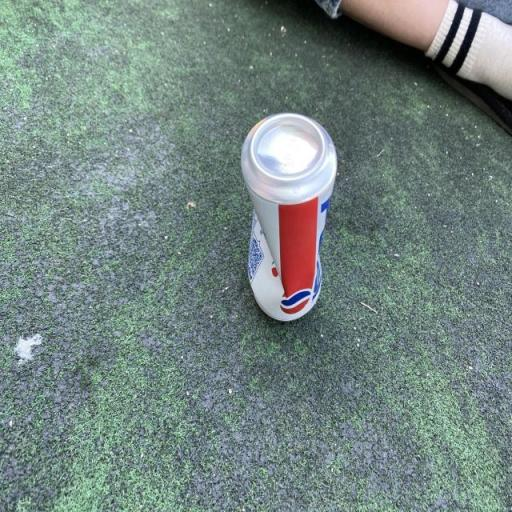metal: (224, 107, 353, 344)
